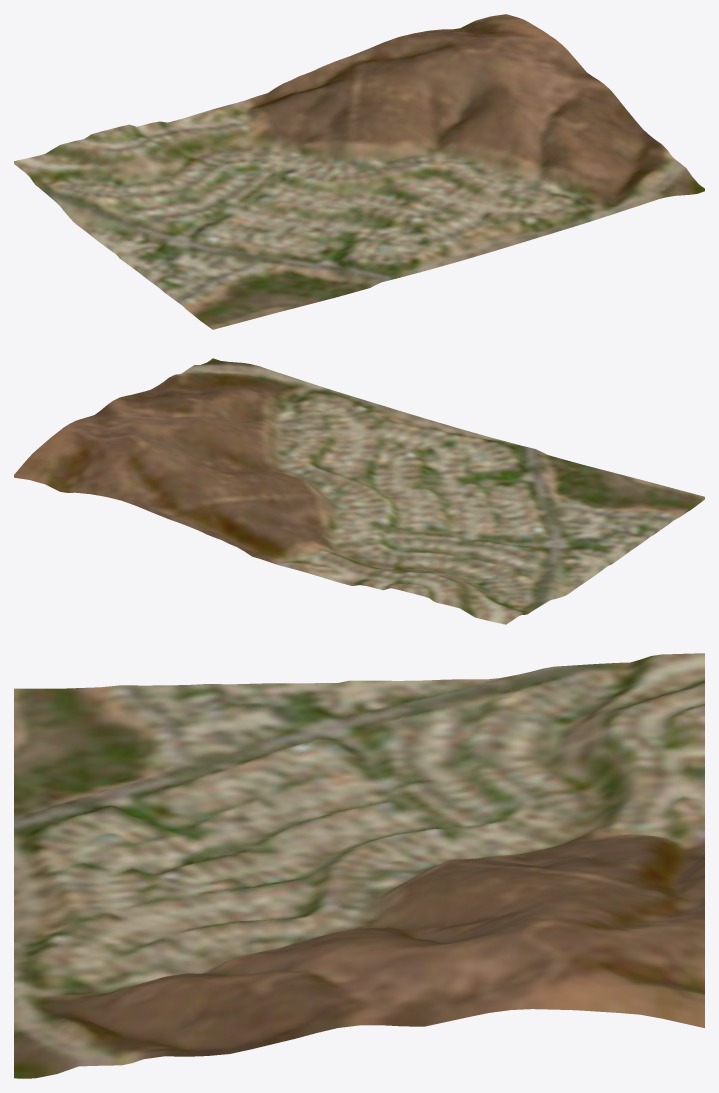
Rendered from terrain_r5_c5_lod1.glb.
3 views of the same model, one above another, from view 1: azimuth 30°, elevation 25°; view 2: azimuth 150°, elevation 25°; view 3: azimuth 270°, elevation 25° (orthographic). The views are drawn at different scales.
Parts seen in each view (by area): view 1: terrain_r5_c5_lod1; view 2: terrain_r5_c5_lod1; view 3: terrain_r5_c5_lod1.
Boxes of the visible parts, left/top/right/bottom form: terrain_r5_c5_lod1: left=14, top=14, right=704, bottom=329; terrain_r5_c5_lod1: left=14, top=358, right=704, bottom=624; terrain_r5_c5_lod1: left=14, top=653, right=704, bottom=1078.
Bounding box in the file's own units: 1125 × 149 × 787.
Materials: 1 (1 with a texture image).
